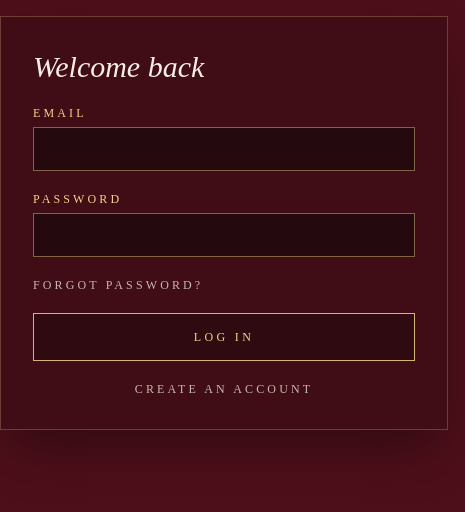
Test: LoginForm › shows the error and stays put when sign in fails
The image size is (465, 512).
Type "a@b.co" into the field labelled "Email" at [224, 149], box 33,127 -> 415,171
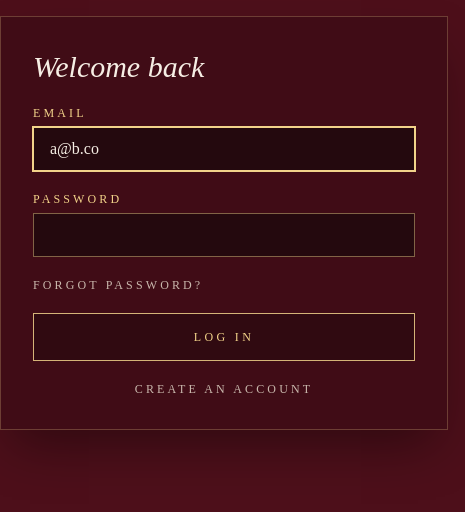
Type "hunter22" into the password field labelled "Password" at [224, 235], box 33,213 -> 415,257
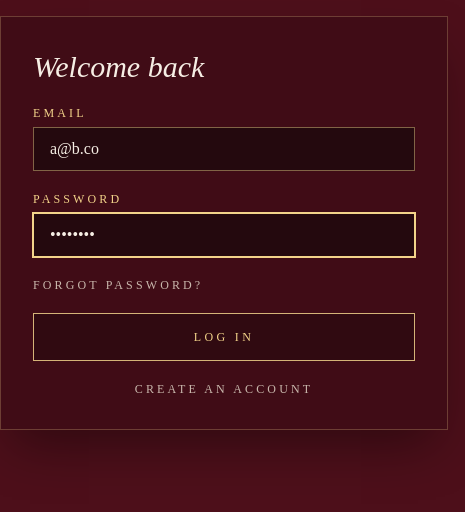
Click the button "Log in" at [224, 337], box 33,313 -> 415,361
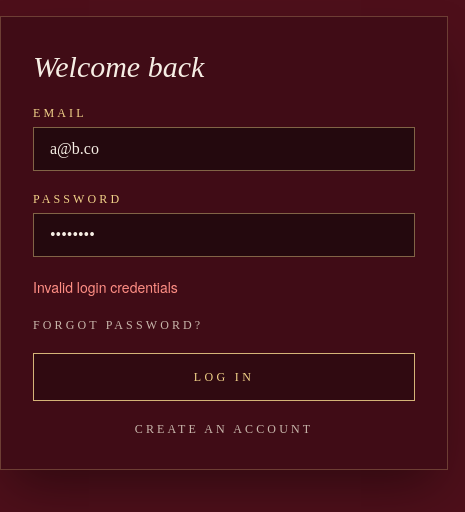
Now the message reads "Invalid login credentials", box 33,277 -> 178,297
